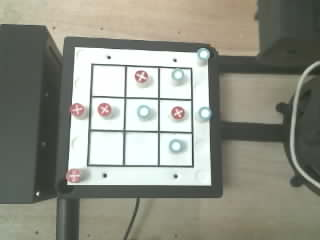blue circle: (169, 139, 183, 152), (137, 105, 151, 118), (199, 107, 212, 121), (197, 48, 210, 60), (172, 69, 183, 80)
board: (66, 47, 211, 185)
cells: (125, 132, 157, 165), (89, 132, 122, 164), (160, 133, 191, 165), (92, 65, 124, 96), (91, 98, 123, 129), (125, 99, 157, 130), (160, 100, 191, 131), (160, 68, 191, 98), (127, 67, 158, 97)
grid: (87, 64, 193, 167)
red cross: (135, 70, 149, 84), (70, 103, 84, 116), (66, 169, 80, 182), (97, 103, 111, 116), (171, 106, 184, 119)
